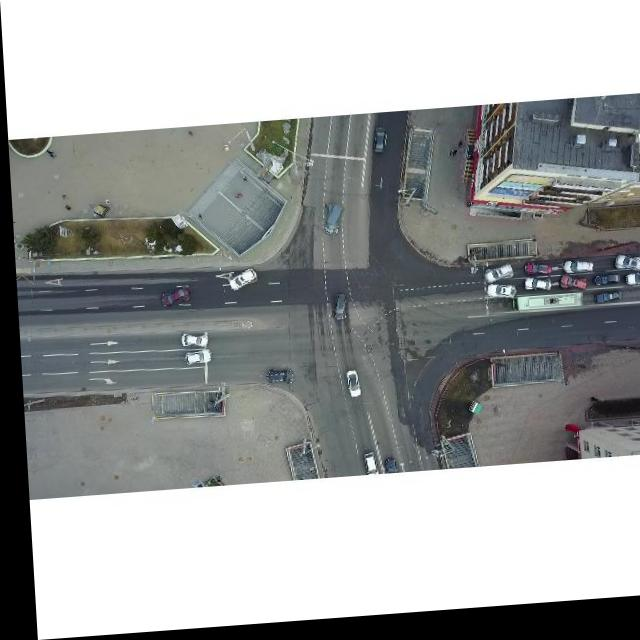vehicle: (320, 209, 341, 242), (155, 290, 188, 310), (261, 370, 291, 392), (479, 271, 512, 291), (224, 272, 255, 293), (610, 263, 640, 282), (483, 290, 514, 308), (554, 283, 584, 301), (328, 297, 345, 325), (560, 268, 591, 283), (176, 335, 205, 351), (341, 374, 357, 403), (520, 270, 549, 286), (180, 352, 208, 368), (520, 284, 548, 300), (590, 299, 618, 313), (590, 282, 616, 295), (621, 281, 640, 295)
